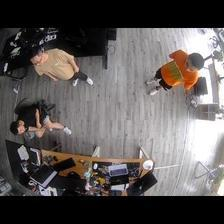normal: (145, 50, 204, 94), (31, 46, 92, 86), (8, 105, 71, 139)
